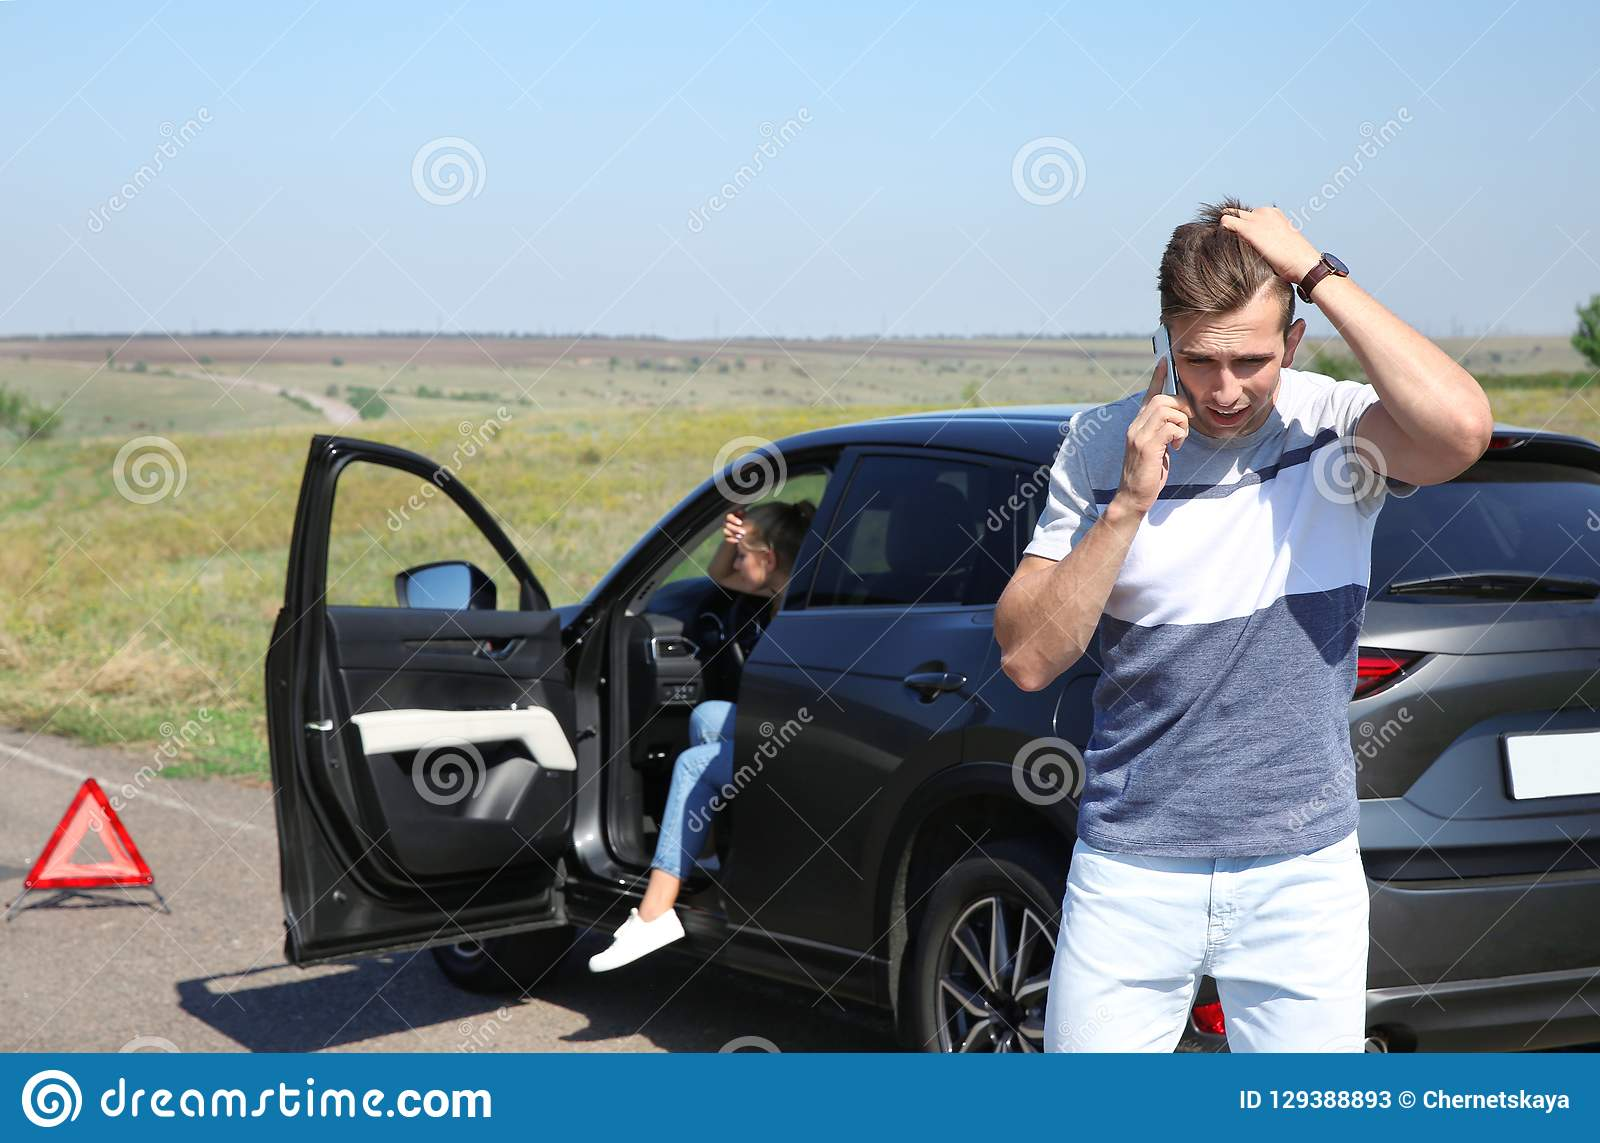phone: (1143, 317, 1186, 433)
talk: (1121, 307, 1280, 499)
